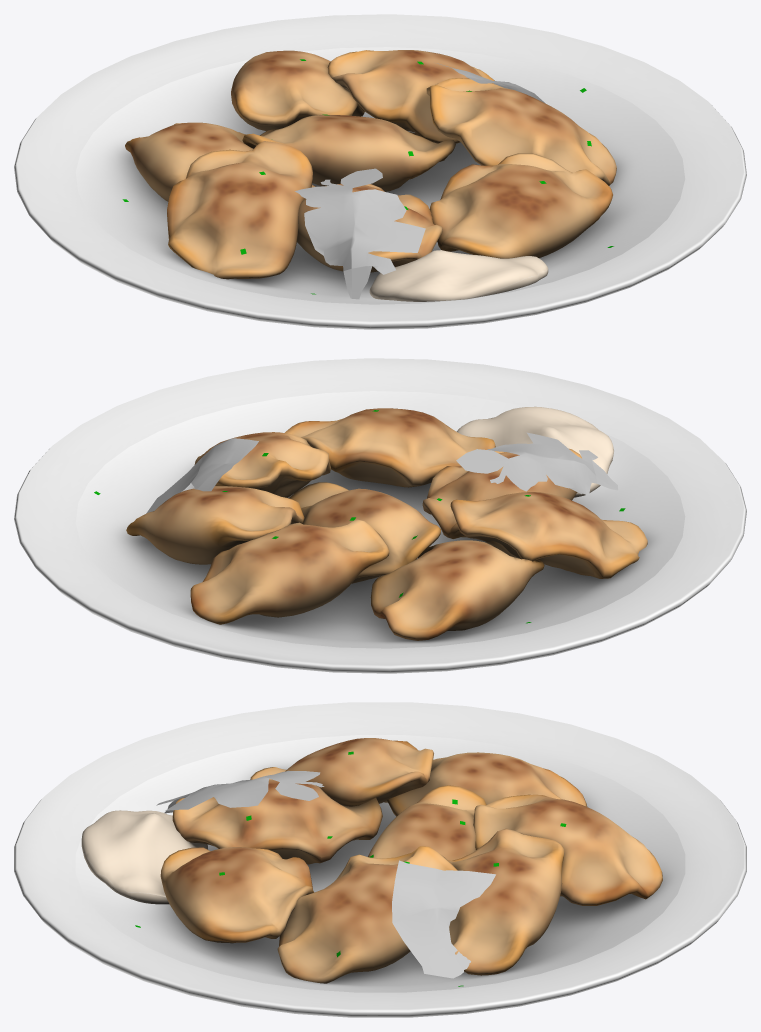
The model's file is Poland Dish.fbx.
The picture shows the model from 3 angles, top to bottom: view 1: azimuth 30°, elevation 25°; view 2: azimuth 150°, elevation 25°; view 3: azimuth 270°, elevation 25°; orthographic projection.
Visible parts, largest first — view 1: Poland Dish; view 2: Poland Dish; view 3: Poland Dish.
Part boxes in pixels (x1,y1,x2,y2): Poland Dish: [14, 14, 746, 329]; Poland Dish: [14, 358, 746, 673]; Poland Dish: [14, 702, 746, 1017].
Size of the model in its own units: 494 by 79.52 by 494.
